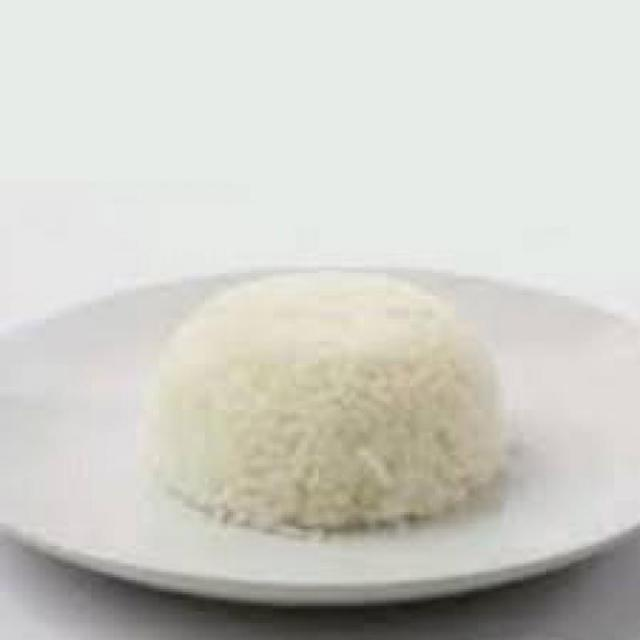rice: (146, 272, 505, 534)
